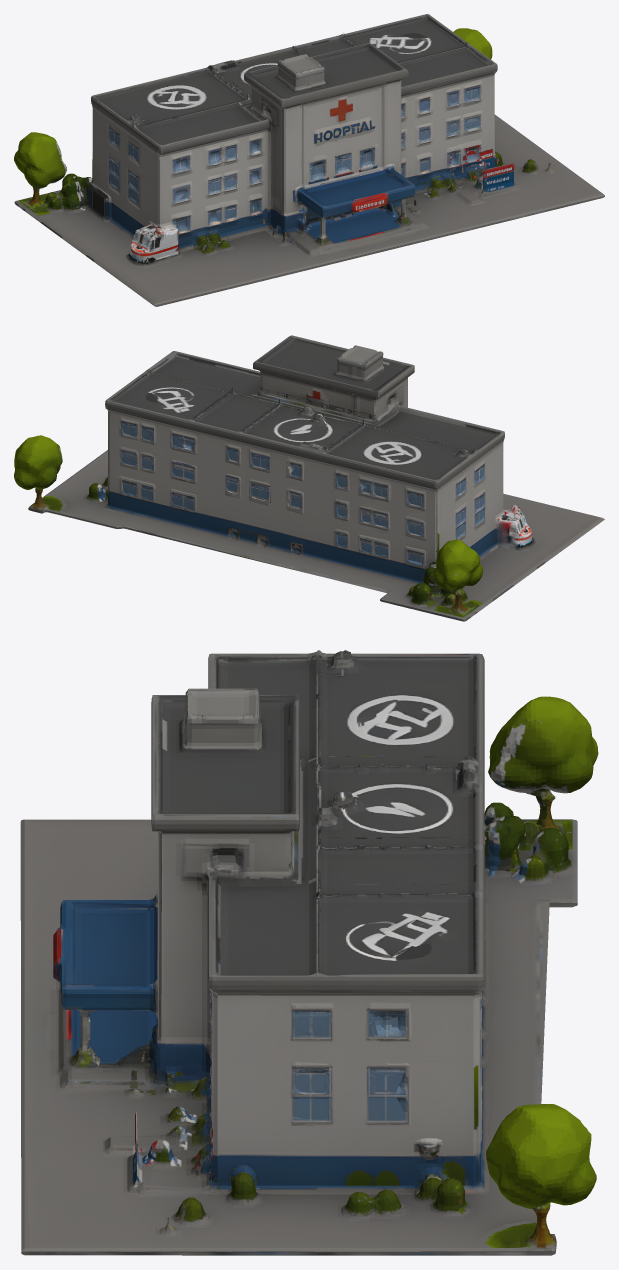
File: hospital.fbx
3 views of the same model, one above another, from view 1: azimuth 30°, elevation 25°; view 2: azimuth 150°, elevation 25°; view 3: azimuth 270°, elevation 25° (orthographic). The views are drawn at different scales.
Parts seen in each view (by area): view 1: hospital_lp; view 2: hospital_lp; view 3: hospital_lp.
Boxes of the visible parts, bbox=[...] form: hospital_lp: bbox=[14, 14, 604, 306]; hospital_lp: bbox=[14, 335, 604, 621]; hospital_lp: bbox=[20, 650, 598, 1255].
Bounding box in the file's own units: 1.02 × 0.3303 × 0.5535.
